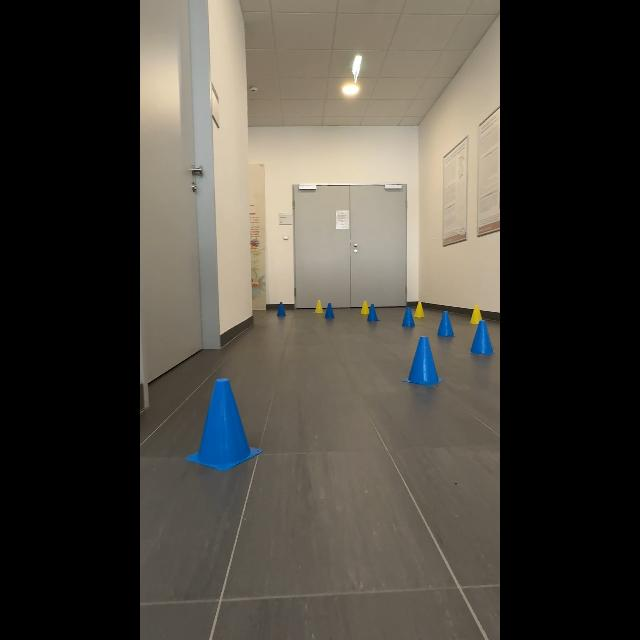blue_cone: (178, 376, 270, 472), (406, 334, 444, 396), (464, 316, 498, 364)
